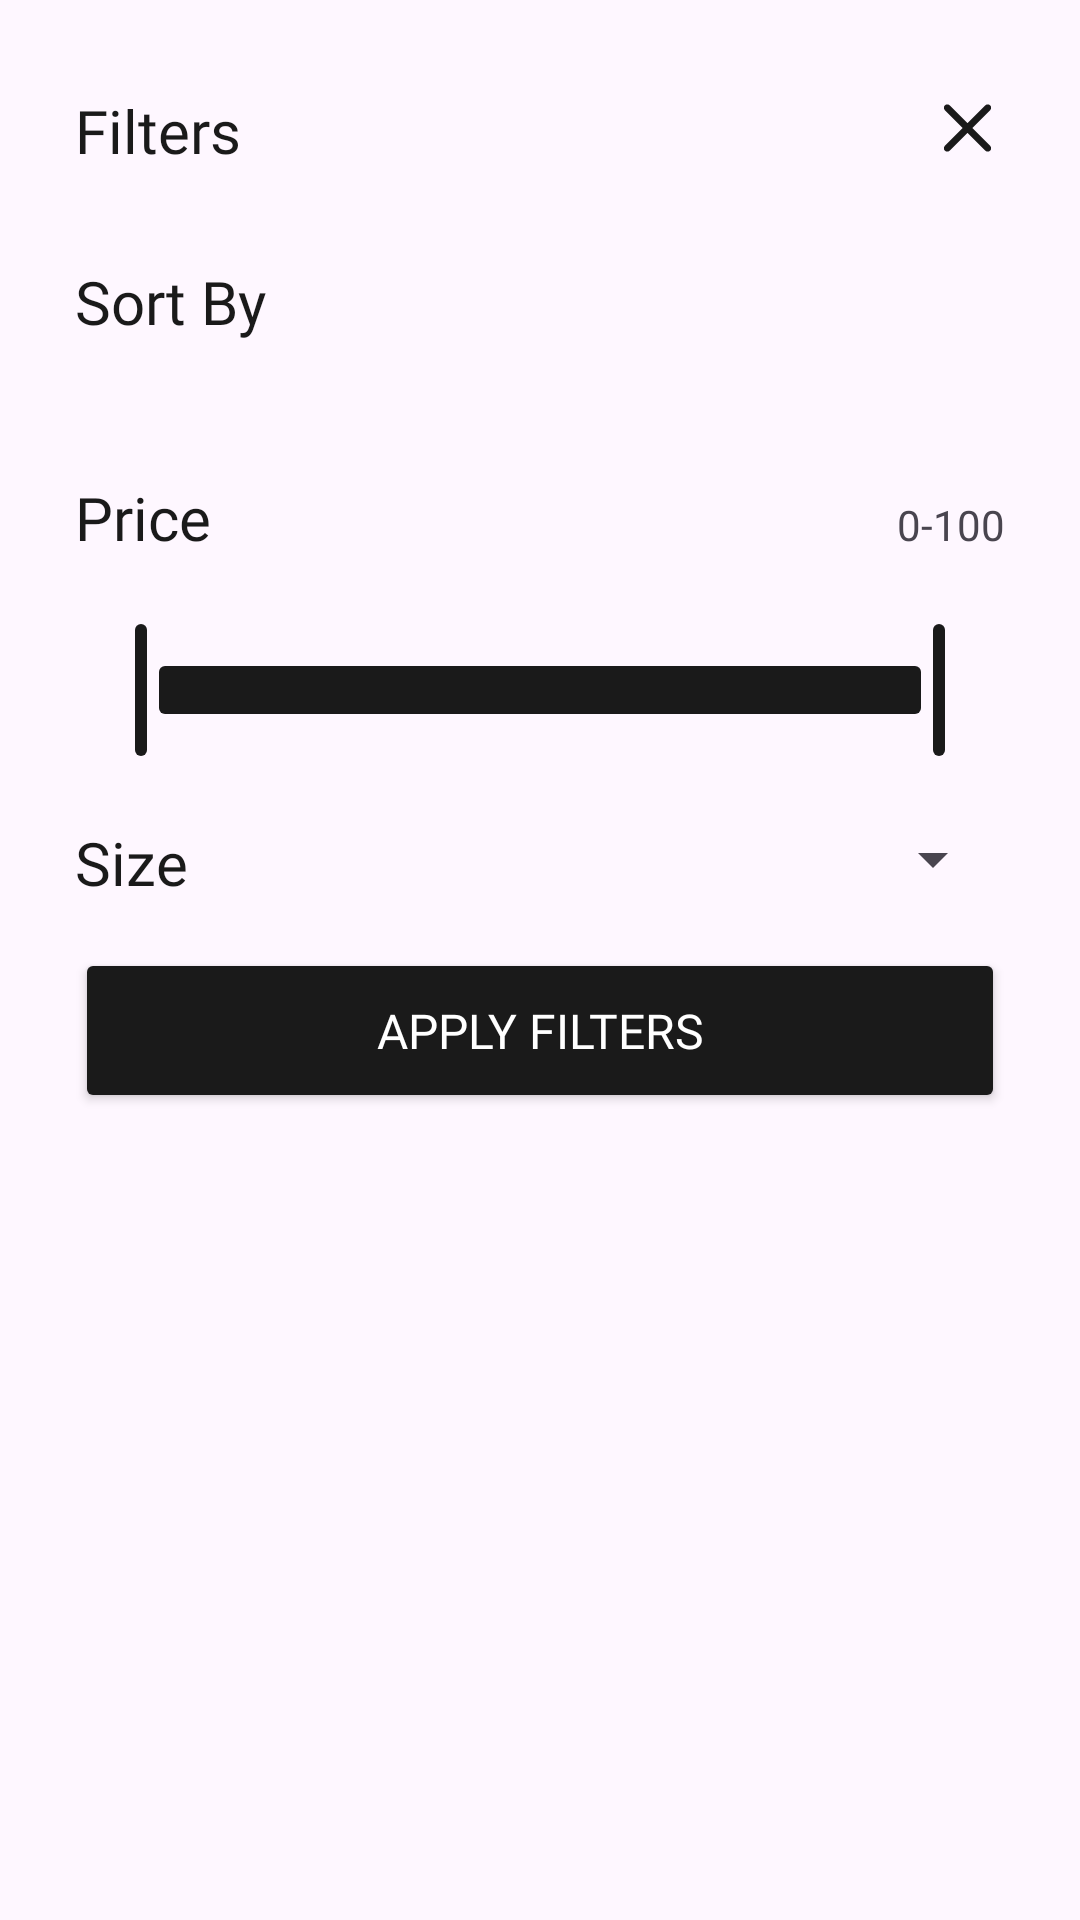

Where icons sit on this 1080 × 1920 app screen, as bbox=[x1, y1, x2, y2]:
cancel: bbox=[944, 104, 991, 152]
